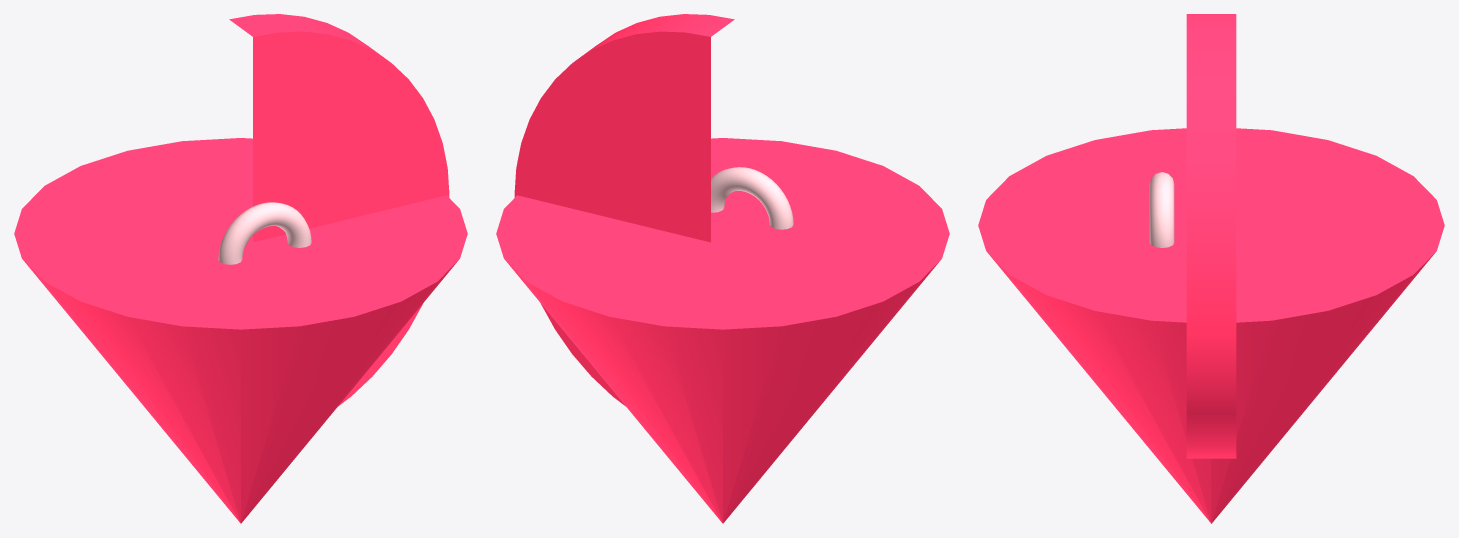
File: sec.glb
3 views of the same model, side by side, from view 1: azimuth 30°, elevation 25°; view 2: azimuth 150°, elevation 25°; view 3: azimuth 270°, elevation 25° (orthographic). The views are drawn at different scales.
Size of the model in its own units: 1.66 by 2 by 1.66.
